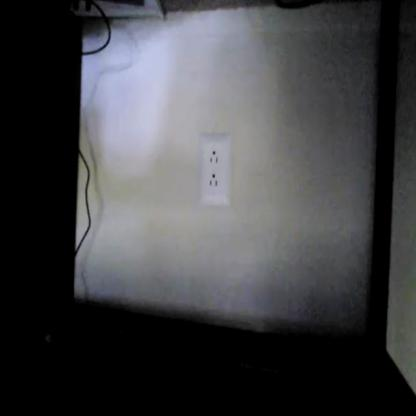OUTLET: (199, 136, 232, 205)
